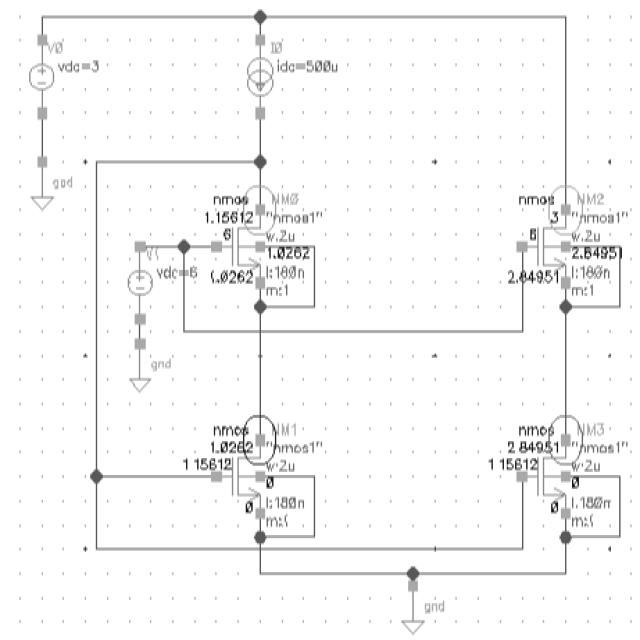idc: (233, 36, 285, 120)
nmos: (517, 193, 572, 294), (213, 422, 269, 521), (211, 194, 267, 290), (520, 420, 574, 516)
vdc: (24, 38, 80, 126), (122, 240, 162, 322)
